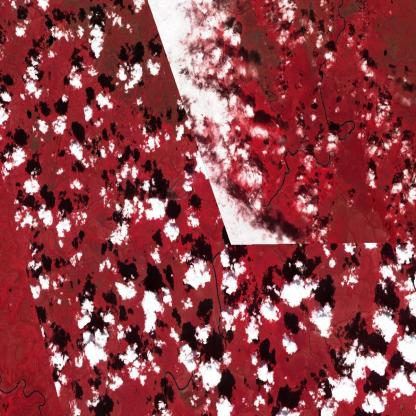fire: (161, 184, 182, 204)
